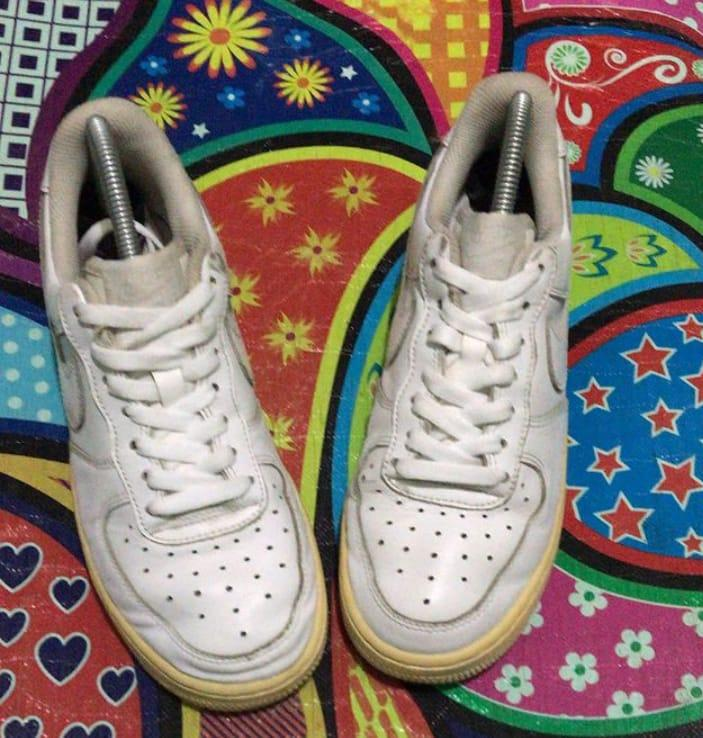shoe: (346, 54, 604, 688)
